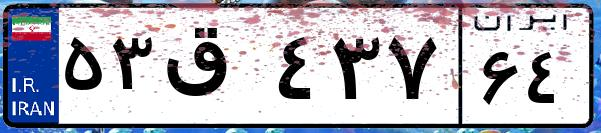3: (330, 28, 385, 110), (110, 28, 158, 98)
4: (270, 28, 330, 110), (525, 38, 570, 115)
5: (57, 26, 110, 100)
6: (475, 38, 525, 113)
7: (385, 28, 445, 110)
ق: (158, 20, 270, 120)
